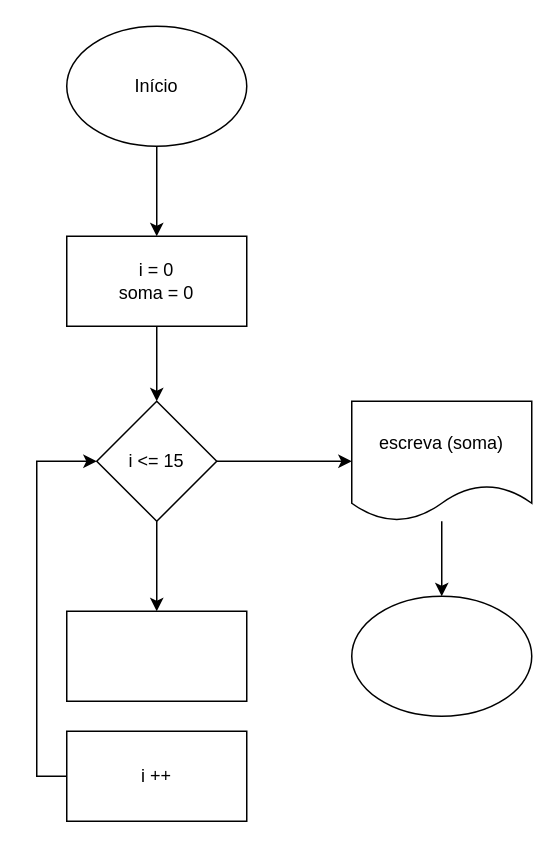
This 558x848 diagram has some shape labels left out. Each missing label, with the centre of its shape:
"Fim" belongs at point (441, 655).
"soma = i + soma" belongs at point (156, 655).
